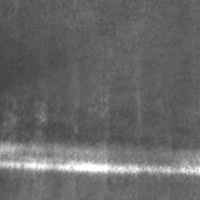scratches: (0, 145, 199, 178)
